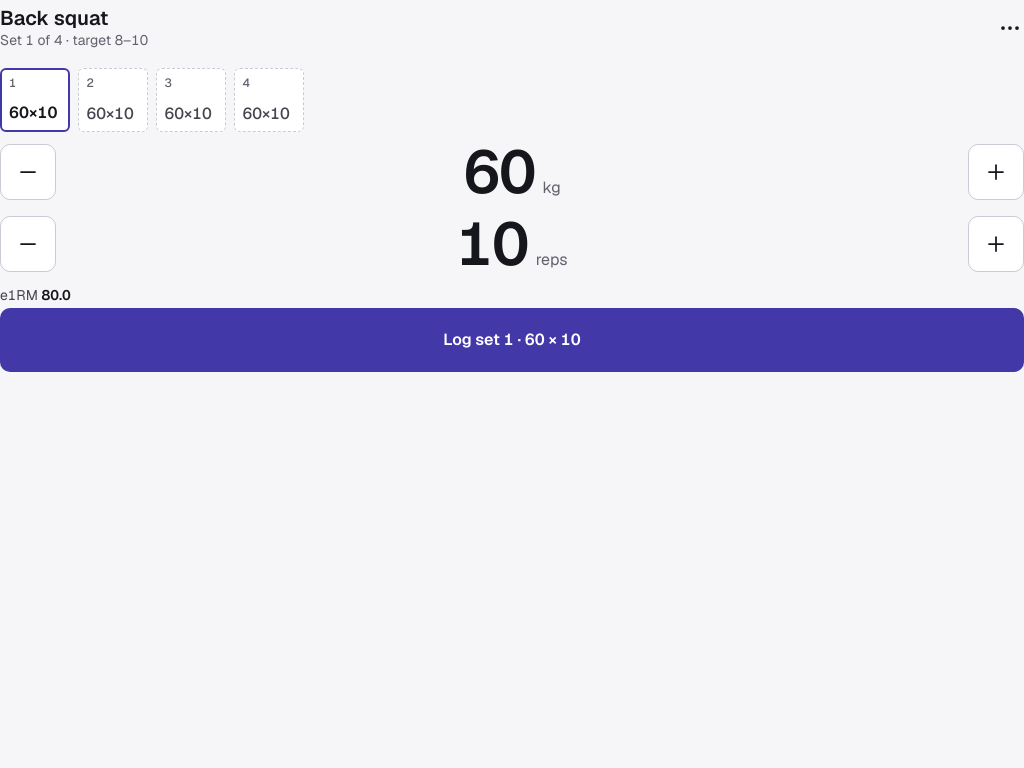
Test: O9 the keypad stays closed until the readout is tapped
The width and height of the screenshot is (1024, 768).
Expected: the button "OK" is not shown
Click the button named "Weight" at point(499, 172), box x1=463 y1=140 x2=535 y2=204
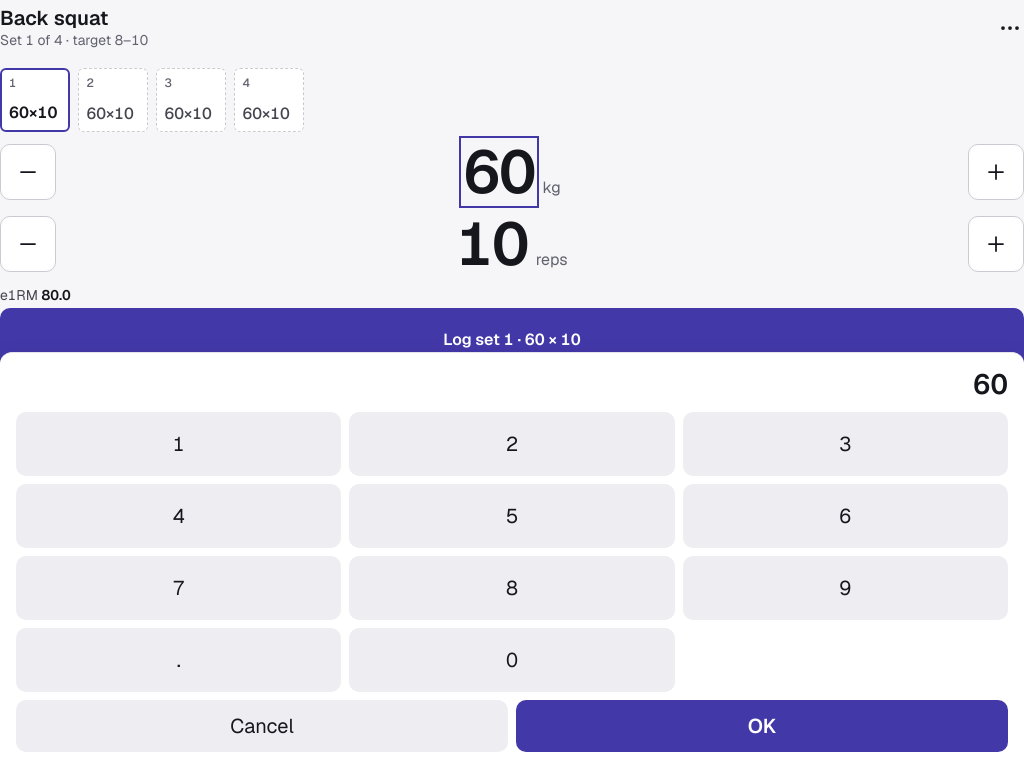
Now the button "OK" is shown, box x1=516 y1=700 x2=1008 y2=752
